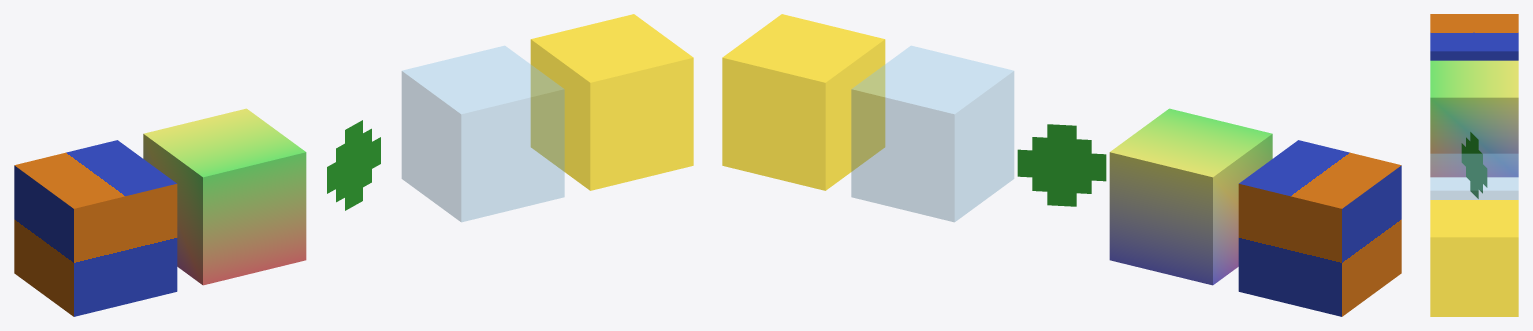
Rendered from showcase.glb.
The picture shows the model from 3 angles, left to right: view 1: azimuth 30°, elevation 25°; view 2: azimuth 150°, elevation 25°; view 3: azimuth 270°, elevation 25°; orthographic projection. The views are drawn at different scales.
Parts seen in each view (by area): view 1: textured, lamp, glass, painted, leaf; view 2: textured, lamp, glass, painted, leaf; view 3: lamp, painted, textured, glass, leaf.
Boxes of the visible parts, box(x1,y1,x2,y2) form: textured: box(14, 140, 177, 316); lamp: box(530, 14, 693, 190); glass: box(402, 46, 564, 221); painted: box(143, 108, 306, 285); leaf: box(327, 120, 380, 210); textured: box(1238, 140, 1401, 316); lamp: box(722, 14, 885, 190); glass: box(851, 46, 1013, 221); painted: box(1109, 108, 1272, 285); leaf: box(1017, 124, 1106, 206); lamp: box(1430, 200, 1518, 316); painted: box(1430, 60, 1518, 177); textured: box(1430, 14, 1518, 60); glass: box(1430, 154, 1518, 199); leaf: box(1461, 132, 1487, 198).
Size of the model in its own units: 4.8 by 0.8 by 0.8.
5 materials, 5 textured.
